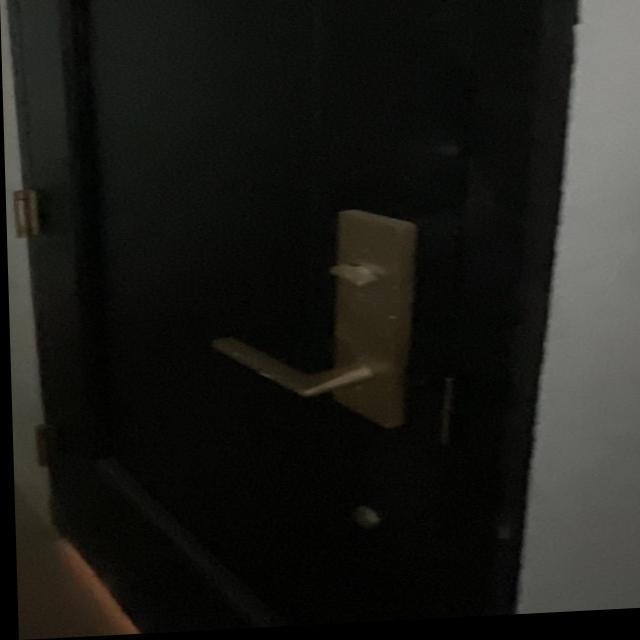door_handle: (195, 319, 416, 418)
